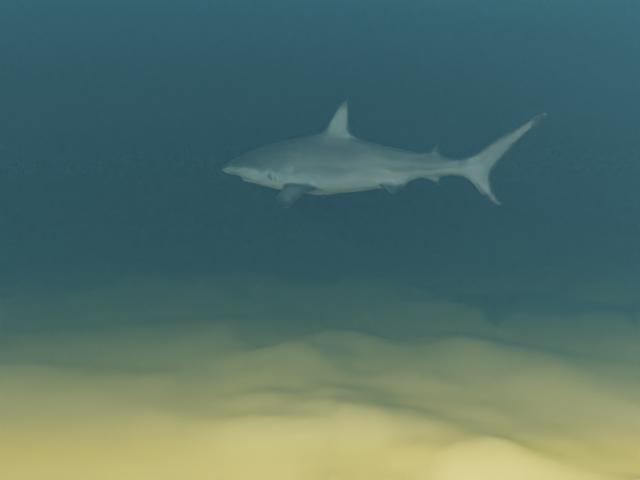Carribean Shark.001: (222, 99, 547, 208)
